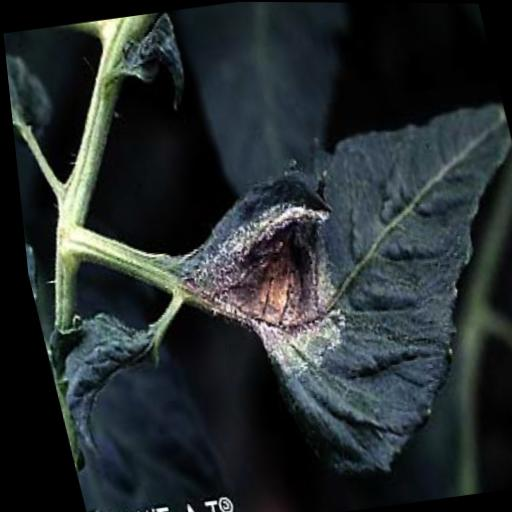Late Blight: (135, 74, 512, 490)
